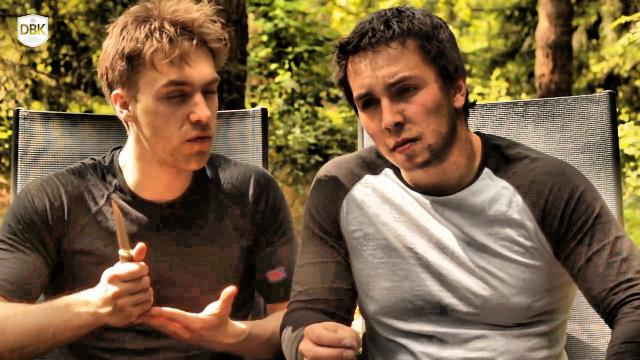knife: (98, 189, 158, 299)
